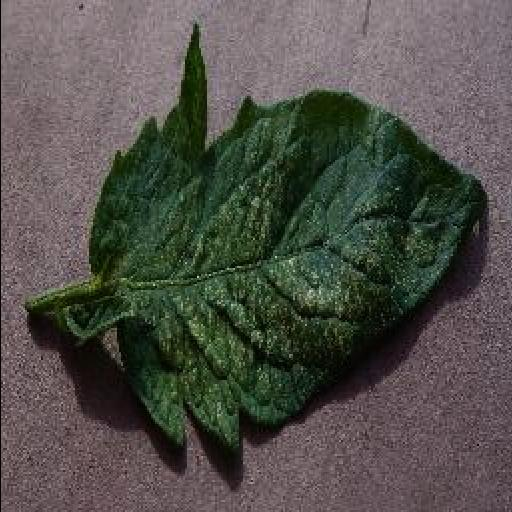disease_tomato: (88, 25, 490, 451)
